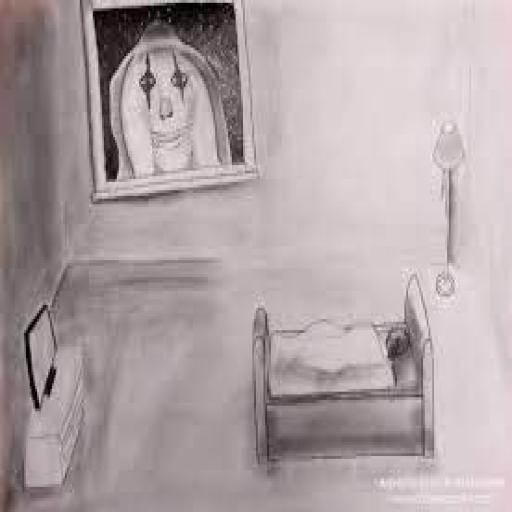person: (107, 24, 238, 193)
